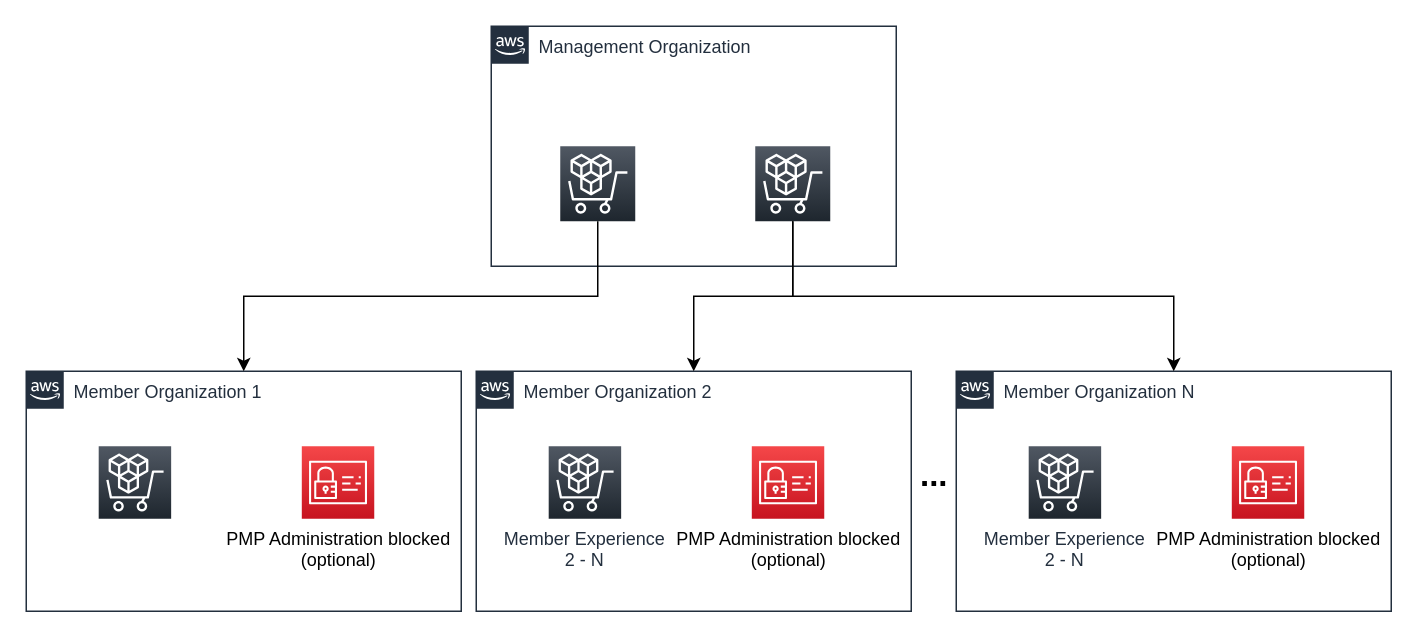
Image size: 1418x638. Some labels were removed from this diagram. Each missing label, with the centre of its shape:
"Member Experience 1" belongs at point (134, 482).
"Mgmt Experience 1" belongs at point (597, 183).
"Mgmt Experience 2 - N" belongs at point (792, 183).
